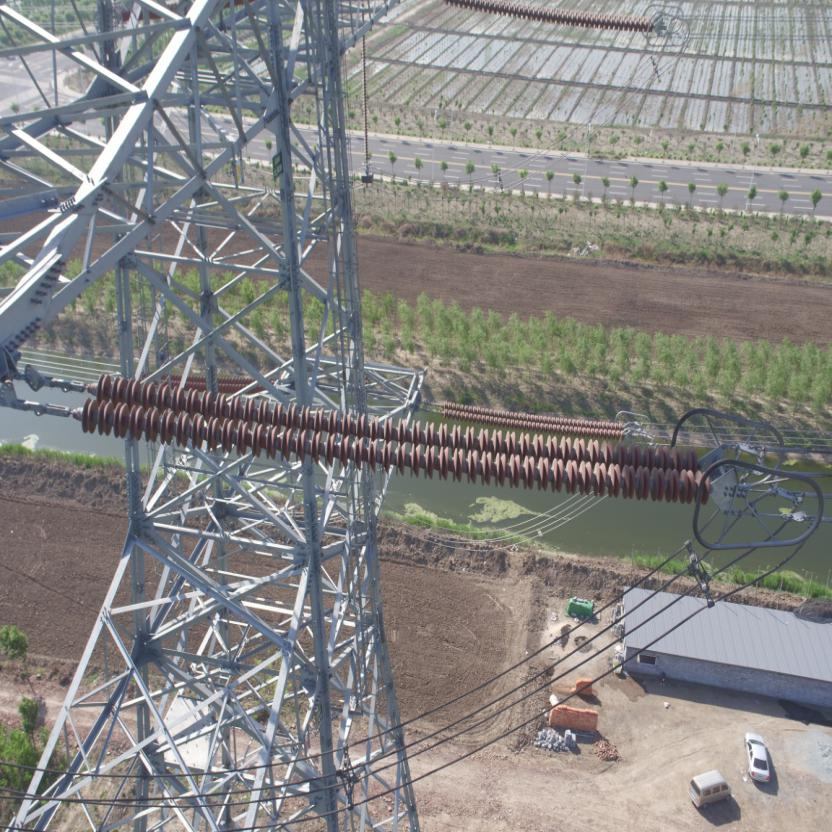insulator: (58, 368, 720, 509), (444, 0, 654, 33)
